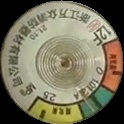green: (79, 88, 115, 122)
needle: (76, 86, 96, 113)
red: (101, 38, 124, 95)
yellow: (28, 98, 85, 124)
